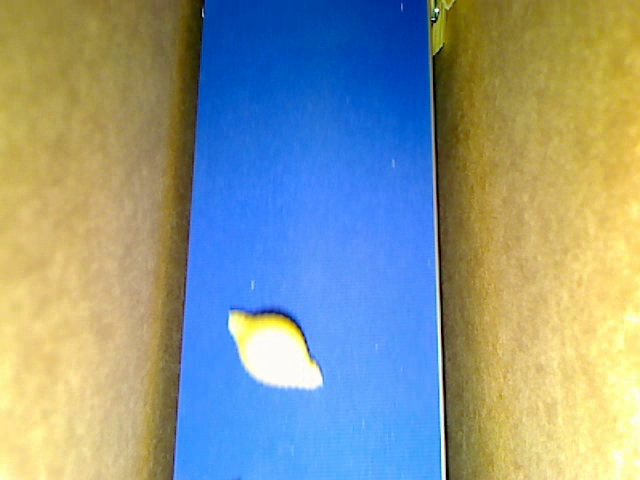penne: (428, 1, 445, 57), (439, 1, 459, 11)
shell: (226, 306, 325, 393)
